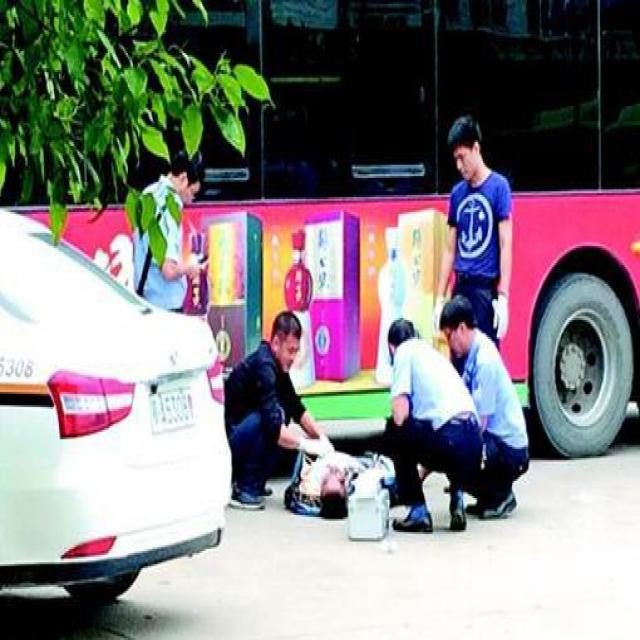fall: (290, 434, 428, 518)
